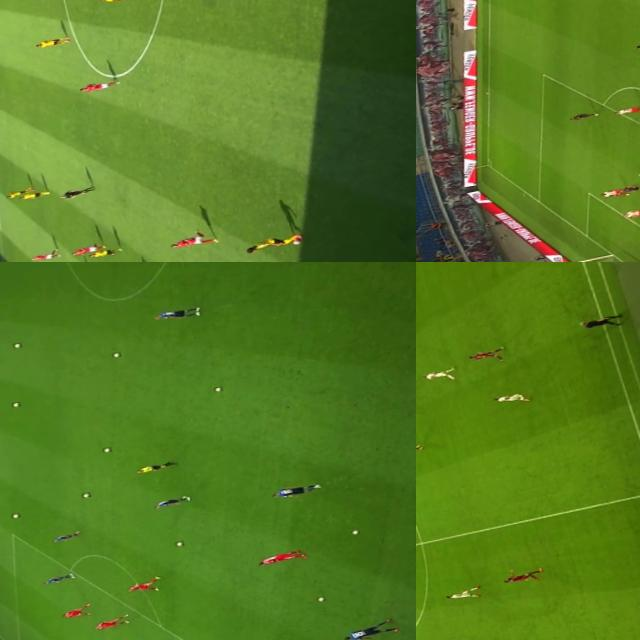ball: (348, 526, 363, 536), (101, 443, 117, 452), (288, 238, 304, 246), (10, 339, 24, 348), (173, 539, 188, 547), (315, 594, 330, 602), (10, 400, 22, 408), (110, 350, 120, 358), (212, 384, 222, 392), (80, 490, 90, 497), (11, 512, 20, 518)
player: (239, 228, 301, 254), (344, 618, 396, 640), (154, 304, 204, 324), (270, 481, 323, 499), (168, 231, 215, 250), (496, 568, 544, 586), (459, 346, 507, 364), (256, 548, 306, 564), (488, 389, 532, 406), (76, 77, 122, 93), (90, 614, 132, 630), (29, 33, 72, 48), (416, 365, 453, 382), (442, 586, 480, 602), (152, 494, 192, 508), (126, 578, 160, 594), (62, 603, 94, 619), (68, 242, 106, 255), (42, 570, 77, 584), (86, 245, 123, 258), (27, 250, 62, 262), (600, 184, 630, 198), (1, 187, 34, 198), (51, 531, 82, 542), (614, 102, 640, 115), (17, 188, 48, 198), (99, 0, 147, 6), (617, 183, 640, 195), (570, 110, 597, 120), (621, 204, 640, 218), (416, 437, 425, 454)
